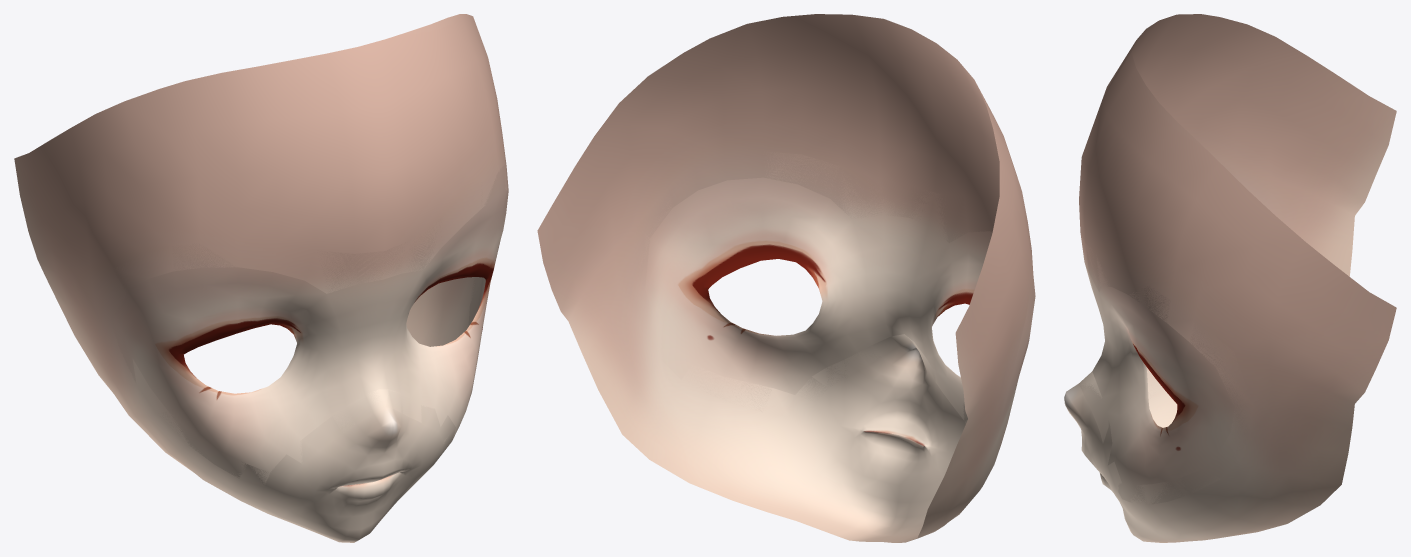
The picture shows the model from 3 angles, left to right: view 1: azimuth 30°, elevation 25°; view 2: azimuth 150°, elevation 25°; view 3: azimuth 270°, elevation 25°; orthographic projection. The views are drawn at different scales.
Visible parts, largest first — view 1: 000_颜; view 2: 000_颜; view 3: 000_颜.
Part boxes in pixels (x1=…): 000_颜: x1=14, y1=14, x2=508, y2=542; 000_颜: x1=537, y1=14, x2=1035, y2=542; 000_颜: x1=1064, y1=14, x2=1396, y2=542.
Bounding box in the file's own units: 0.1761 × 0.2029 × 0.1259.
Materials: 1 (1 with a texture image).
